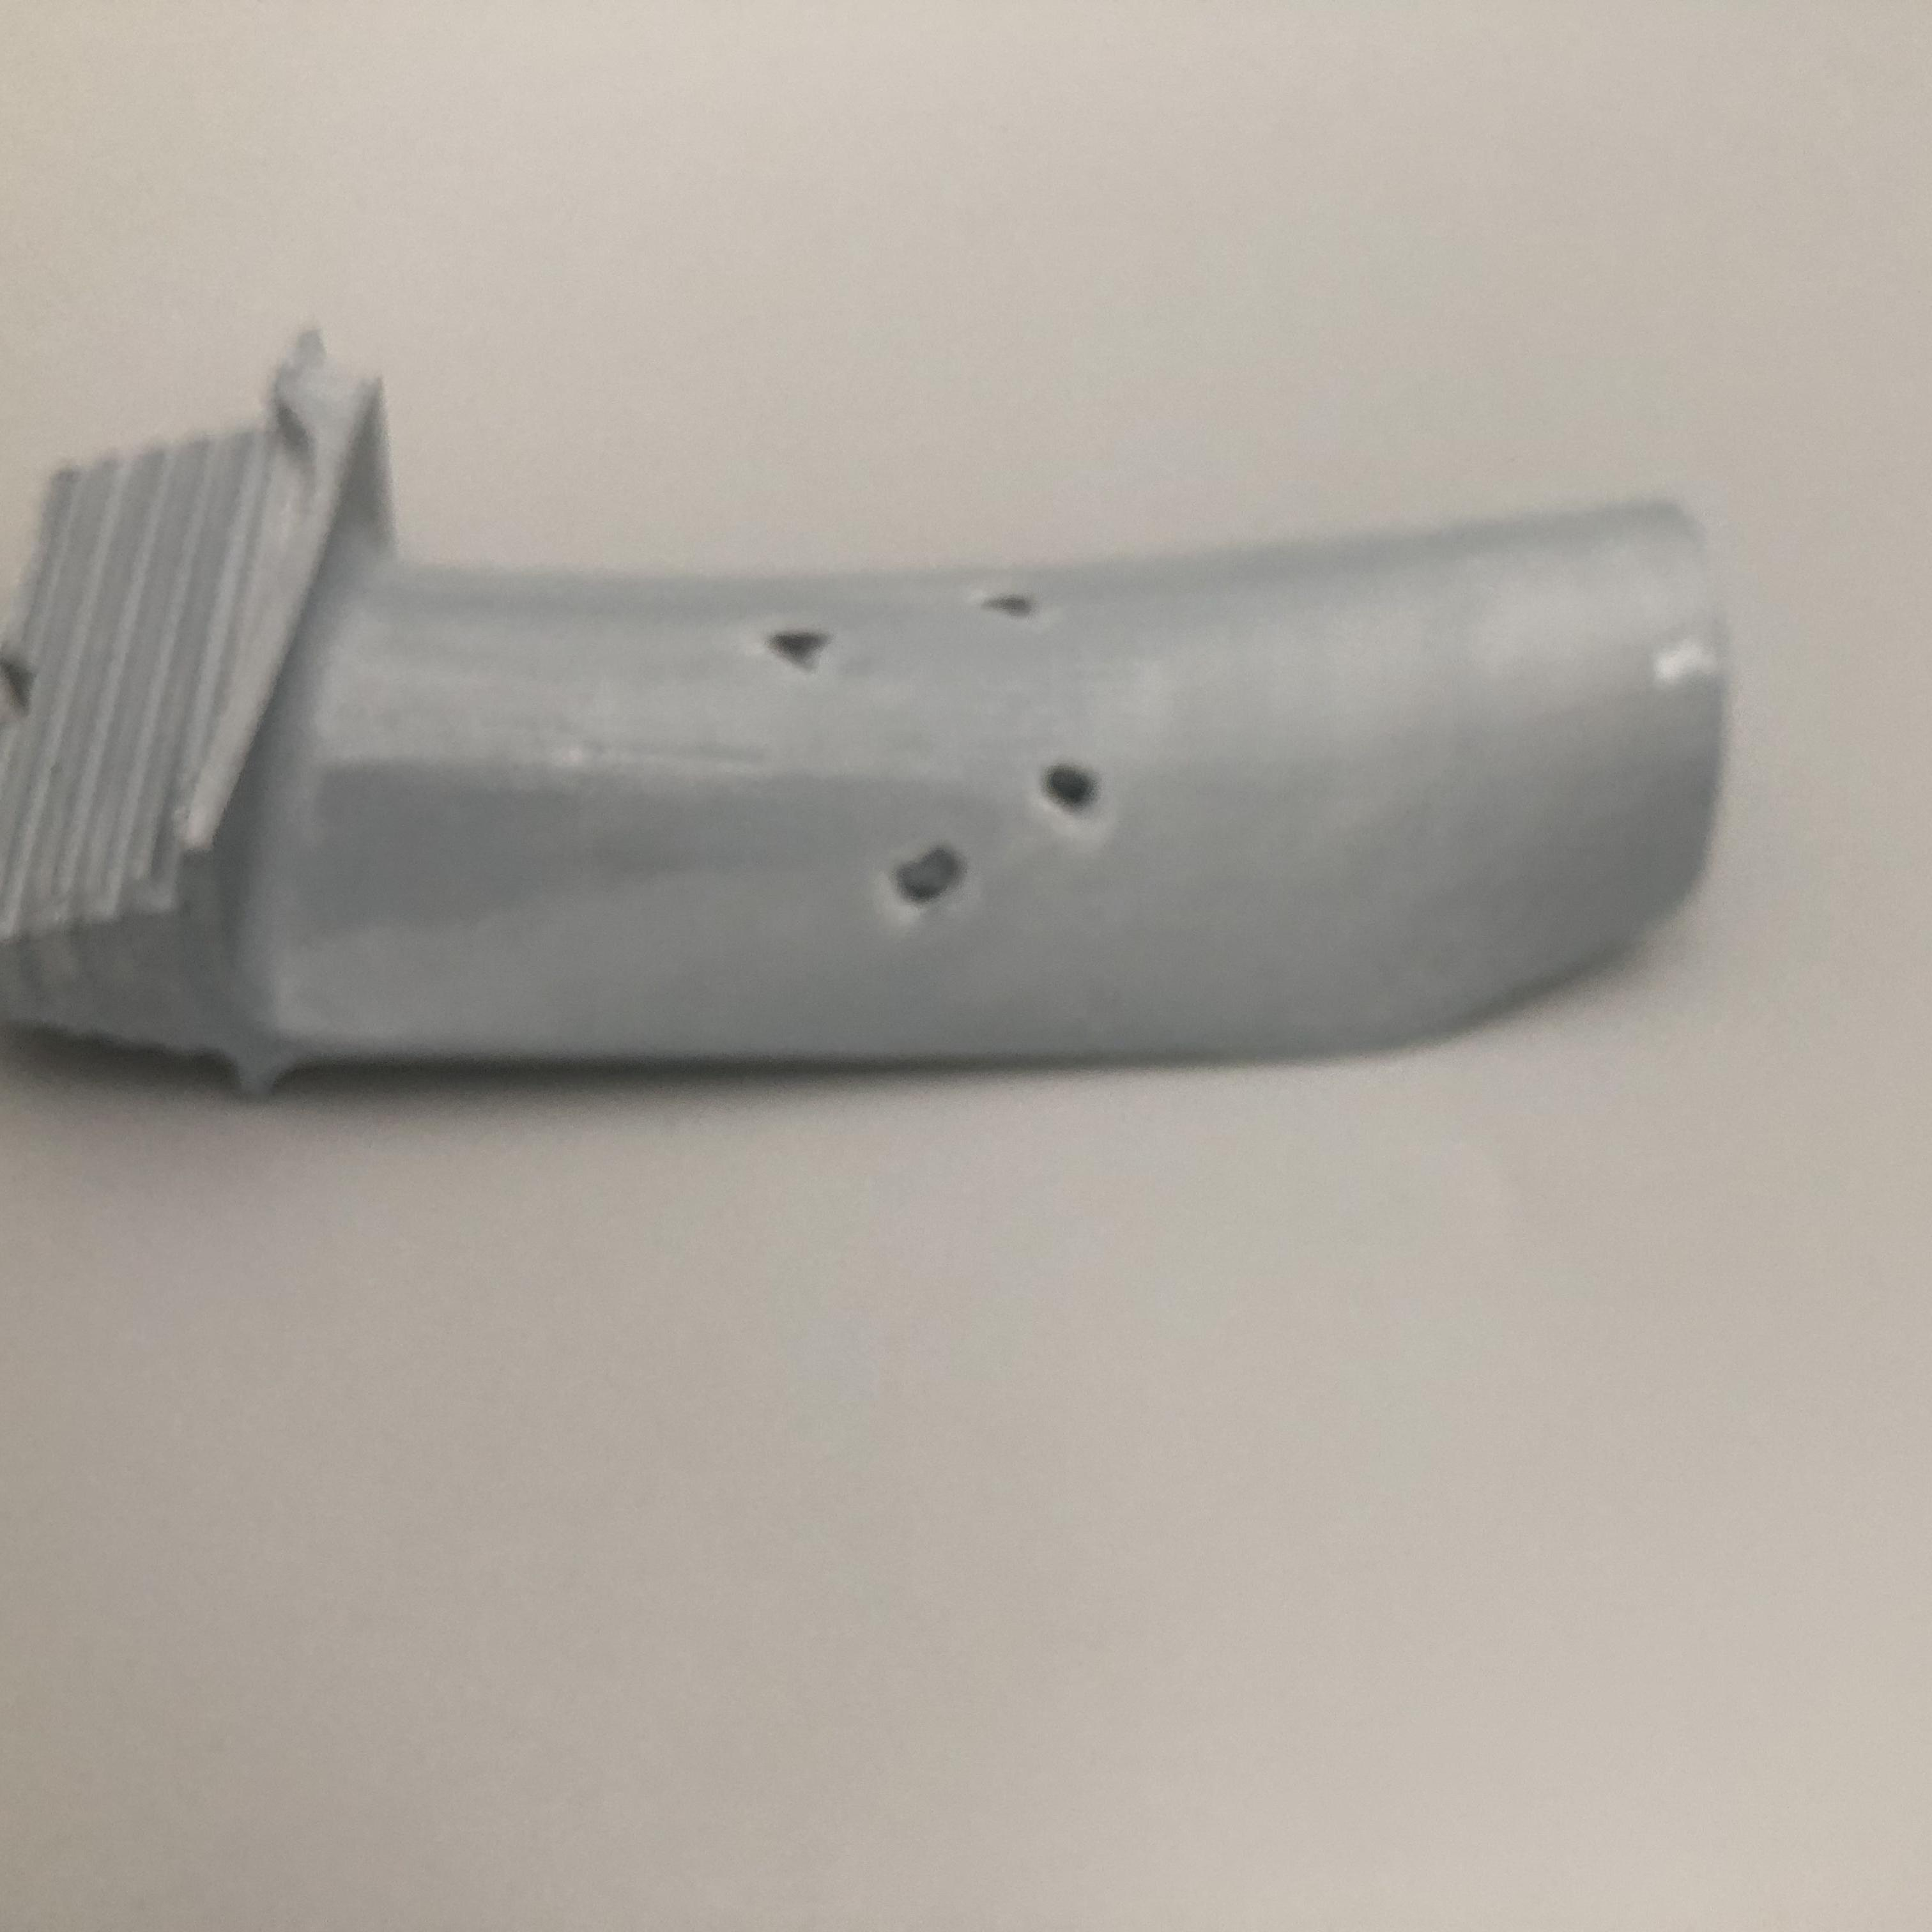breakdown: (755, 587, 1106, 920)
